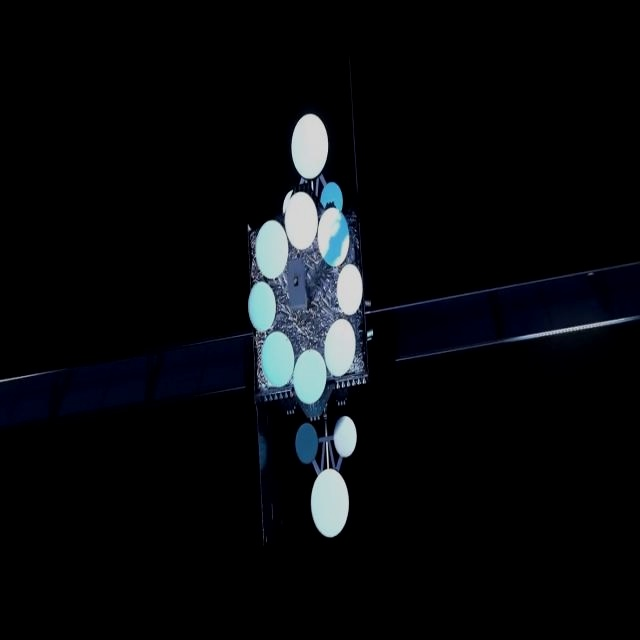medium_debris: (0, 91, 640, 555)
